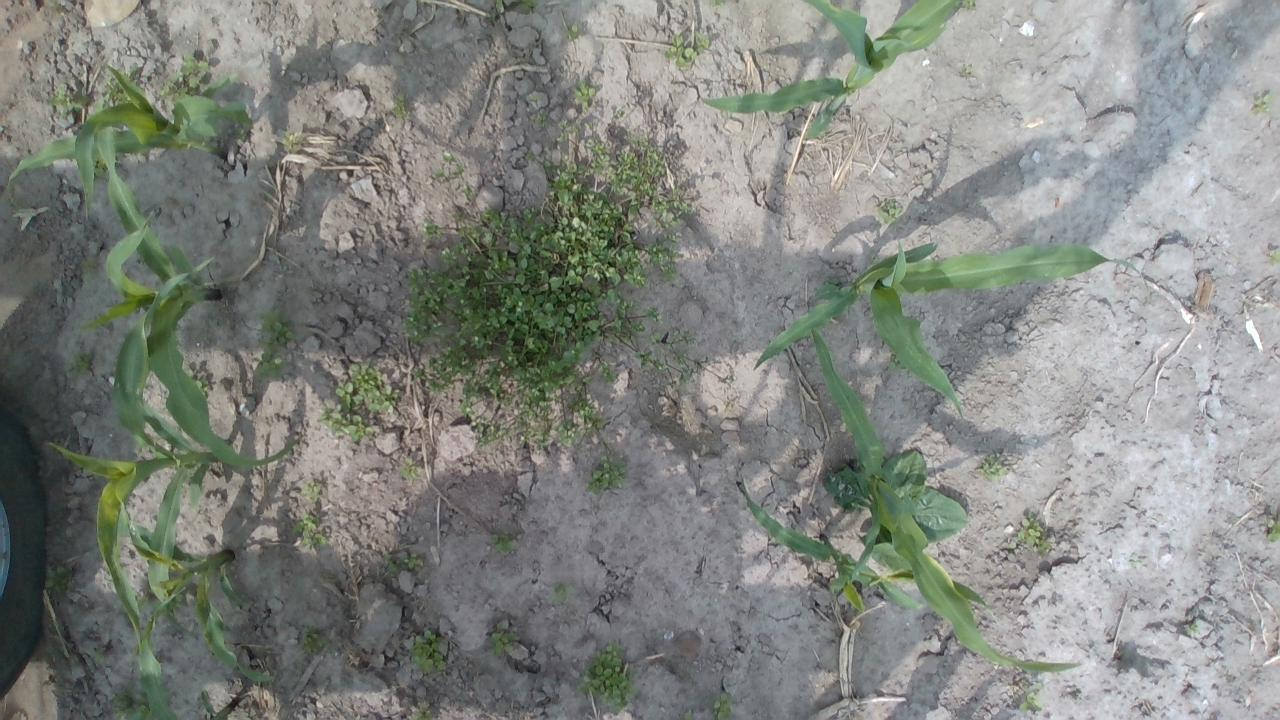Maize: (812, 326, 1080, 669), (84, 132, 295, 468), (42, 257, 216, 656), (754, 239, 1152, 406), (6, 65, 252, 216), (699, 0, 954, 143), (108, 491, 272, 685), (729, 474, 926, 616), (132, 610, 250, 720)
Weeds: (398, 150, 648, 400), (881, 448, 971, 548), (584, 130, 666, 216), (318, 360, 401, 444), (514, 390, 604, 455), (576, 642, 638, 716), (252, 307, 296, 381), (156, 55, 210, 112), (630, 349, 699, 390), (458, 401, 508, 449), (1007, 514, 1052, 559), (584, 449, 626, 496), (824, 466, 864, 514), (652, 183, 692, 229), (408, 629, 448, 674), (660, 32, 709, 68), (46, 83, 90, 120), (95, 76, 133, 112), (110, 687, 148, 720), (292, 513, 328, 547), (300, 624, 336, 657), (488, 623, 520, 656), (976, 454, 1009, 482), (874, 197, 904, 226), (44, 566, 74, 594), (571, 79, 596, 112), (490, 0, 538, 17), (64, 351, 92, 378), (1019, 681, 1044, 711), (554, 119, 582, 145), (398, 456, 423, 484), (486, 528, 512, 554), (666, 330, 695, 352), (278, 129, 302, 155), (188, 368, 207, 398), (550, 582, 577, 603), (712, 693, 732, 720), (390, 94, 410, 120), (80, 255, 98, 283), (1249, 94, 1276, 112), (1264, 516, 1280, 545), (638, 306, 664, 323), (302, 479, 322, 501), (118, 65, 138, 86), (400, 554, 424, 570), (384, 552, 399, 576), (647, 332, 663, 352), (563, 22, 579, 42), (409, 707, 433, 720), (534, 110, 548, 128), (1268, 248, 1280, 268), (1184, 622, 1200, 636), (175, 592, 188, 608), (94, 648, 106, 664), (959, 0, 976, 10), (960, 64, 974, 76), (710, 0, 725, 7), (683, 710, 693, 720), (614, 110, 624, 119)
